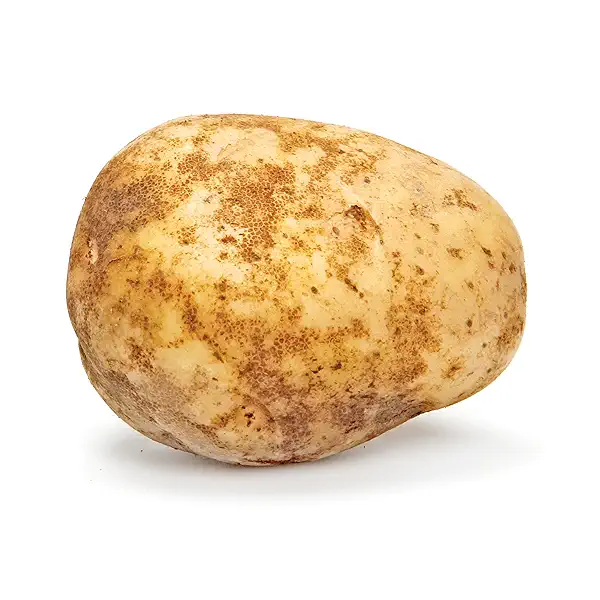potato: (74, 121, 529, 503)
